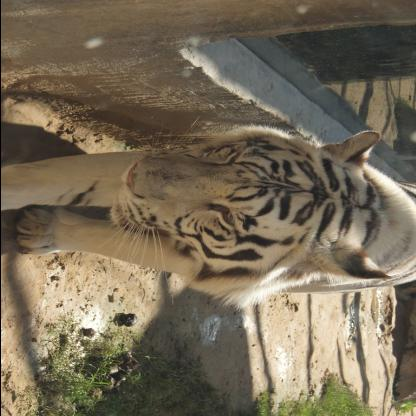tiger: (101, 102, 381, 302)
